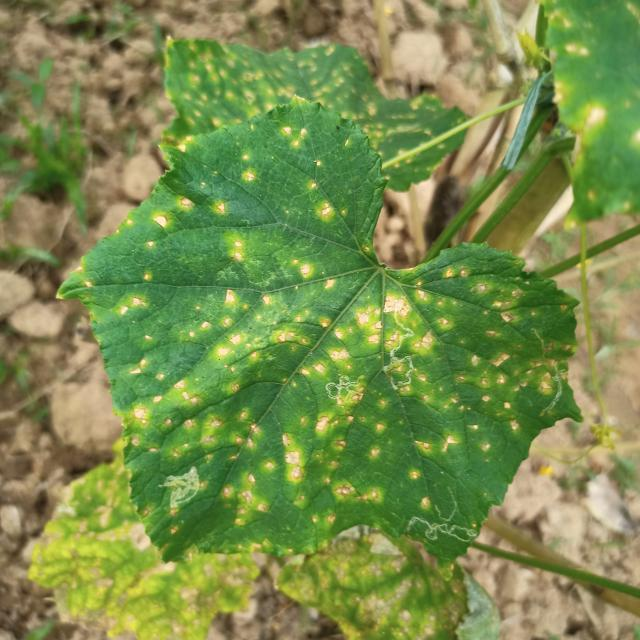disease_cucumber: (103, 267, 572, 551), (292, 255, 339, 290), (307, 180, 337, 224), (180, 195, 233, 218), (142, 213, 171, 251), (280, 122, 310, 153), (238, 151, 258, 189), (231, 236, 251, 266)
